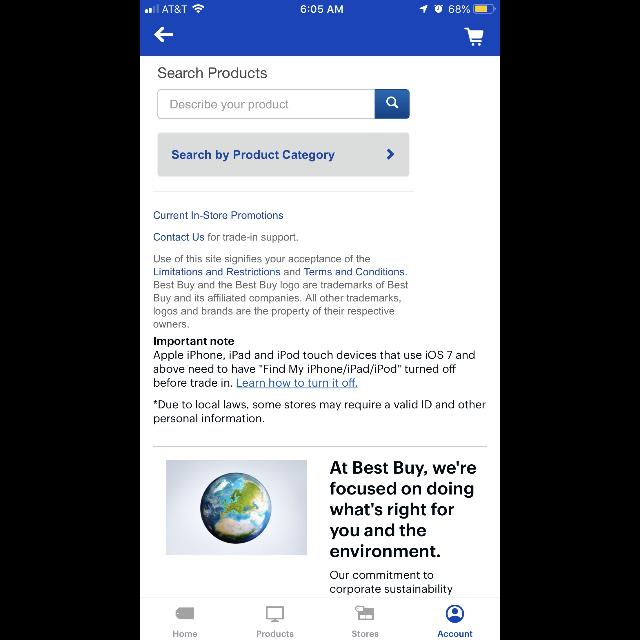icon: (464, 28, 484, 46), (446, 605, 464, 623), (154, 27, 173, 43), (266, 606, 284, 622), (356, 606, 374, 620), (176, 607, 194, 619), (386, 97, 398, 109), (386, 148, 394, 160)
image: (167, 460, 307, 556)
input: (158, 90, 410, 118)
text: (154, 255, 408, 328), (330, 461, 476, 557), (153, 350, 474, 388), (154, 400, 486, 424), (330, 571, 452, 595), (172, 150, 334, 162), (154, 233, 298, 243), (171, 100, 289, 112), (158, 68, 266, 78), (154, 211, 284, 219), (154, 337, 234, 347), (256, 631, 294, 637), (438, 631, 472, 637), (352, 631, 378, 637), (173, 631, 197, 637)
uppertaskbar: (140, 0, 500, 14)
